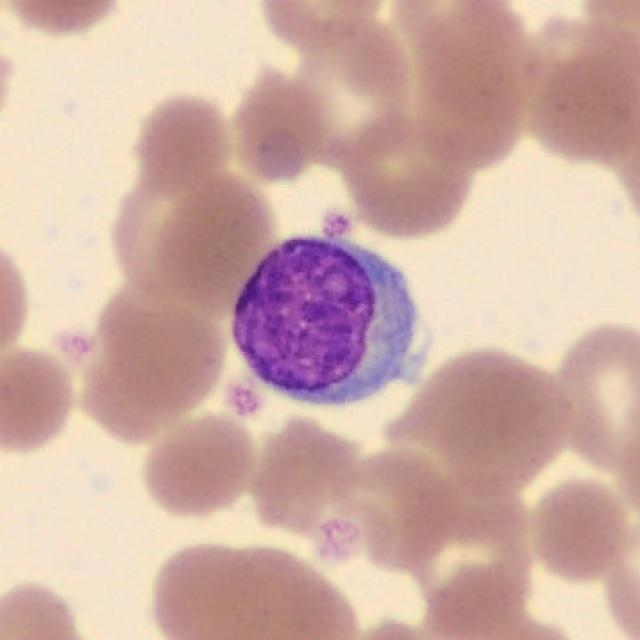Linfocito: (231, 238, 429, 407)
